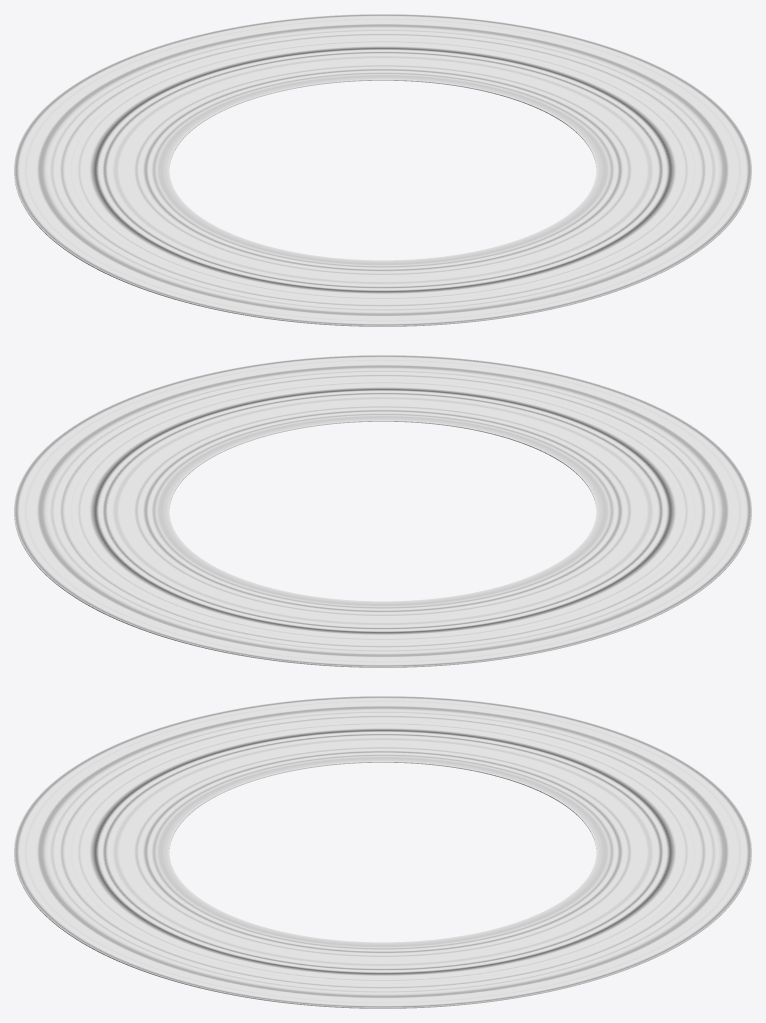
File: rings.obj
3 views of the same model, one above another, from view 1: azimuth 30°, elevation 25°; view 2: azimuth 150°, elevation 25°; view 3: azimuth 270°, elevation 25° (orthographic).
Parts seen in each view (by area): view 1: Cerchio; view 2: Cerchio; view 3: Cerchio.
Boxes of the visible parts, box(x1,y1,x2,y2) form: Cerchio: box(14, 14, 751, 326); Cerchio: box(14, 355, 751, 667); Cerchio: box(14, 696, 751, 1008).
Bounding box in the file's own units: 8.65 × 0.01 × 8.65.
1 material, 1 textured.
